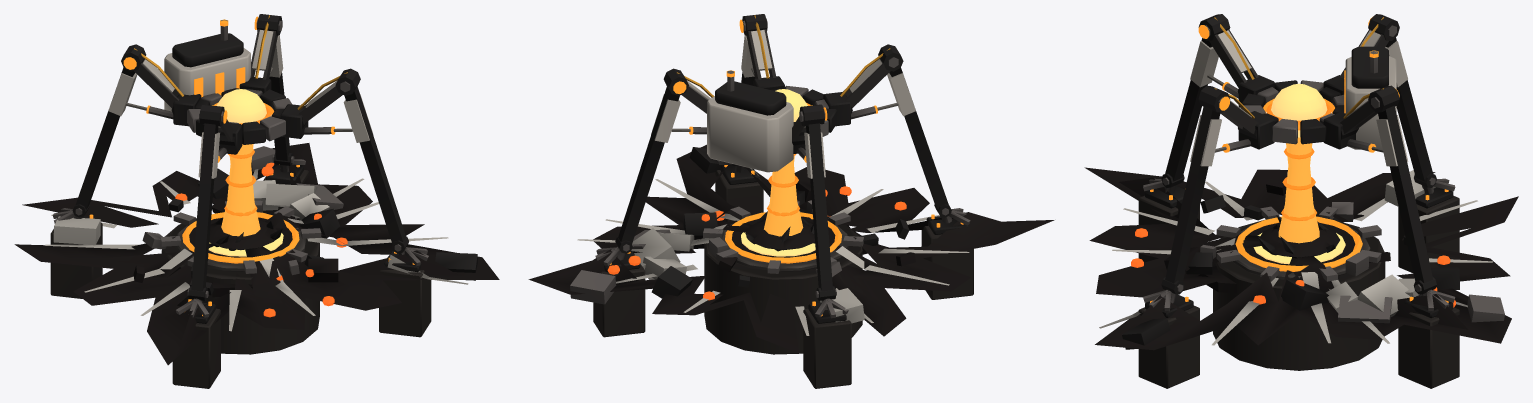
Rendered from solar-collector-corona.glb.
The picture shows the model from 3 angles, left to right: view 1: azimuth 30°, elevation 25°; view 2: azimuth 150°, elevation 25°; view 3: azimuth 270°, elevation 25°; orthographic projection. The views are drawn at different scales.
Parts seen in each view (by area): view 1: site_solar_collector_corona_body, site_solar_collector_corona_ruin, site_solar_collector_corona_core; view 2: site_solar_collector_corona_body, site_solar_collector_corona_ruin, site_solar_collector_corona_core; view 3: site_solar_collector_corona_body, site_solar_collector_corona_ruin, site_solar_collector_corona_core.
Part boxes in pixels (x1=…): site_solar_collector_corona_body: x1=50, y1=14, x2=431, y2=388; site_solar_collector_corona_ruin: x1=14, y1=143, x2=499, y2=365; site_solar_collector_corona_core: x1=216, y1=89, x2=271, y2=236; site_solar_collector_corona_body: x1=593, y1=14, x2=973, y2=388; site_solar_collector_corona_ruin: x1=528, y1=144, x2=1054, y2=353; site_solar_collector_corona_core: x1=764, y1=89, x2=807, y2=236; site_solar_collector_corona_body: x1=1138, y1=14, x2=1459, y2=388; site_solar_collector_corona_ruin: x1=1084, y1=167, x2=1518, y2=350; site_solar_collector_corona_core: x1=1266, y1=83, x2=1331, y2=243.
Bounding box in the file's own units: 5.77 × 4.3 × 5.8.
